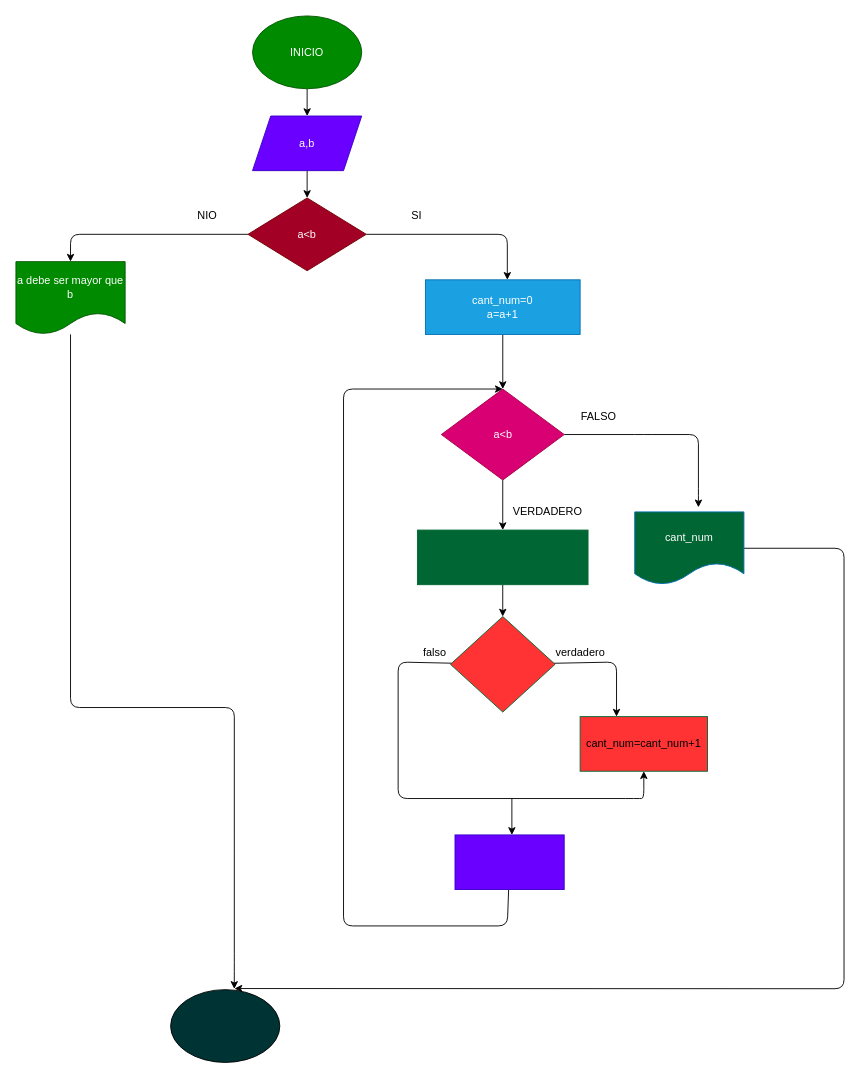
Image size: 867x1078. Some labels were removed from this diagram. Here are the shapes that lost their labels. From the top down, the box of each, then its label:
(417, 529, 588, 585): r = a % 2
(450, 616, 555, 712): r == 0
(454, 834, 564, 890): a=a+1
(170, 989, 280, 1062): FIN
